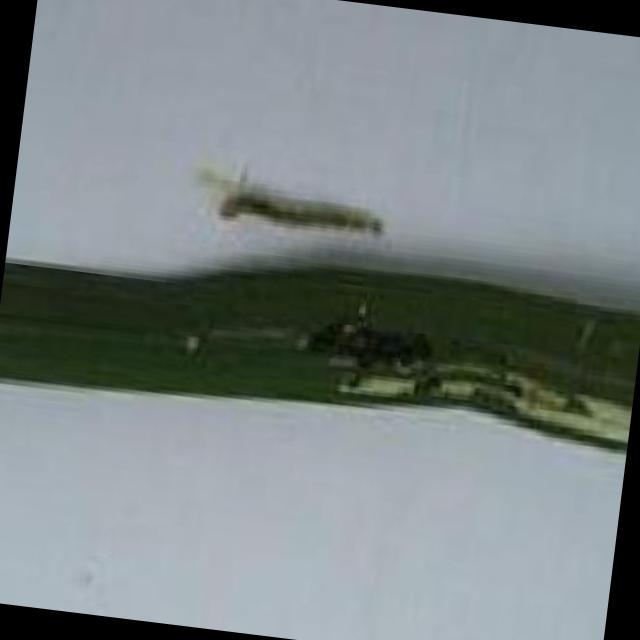leaf-folder: (196, 110, 412, 262)
